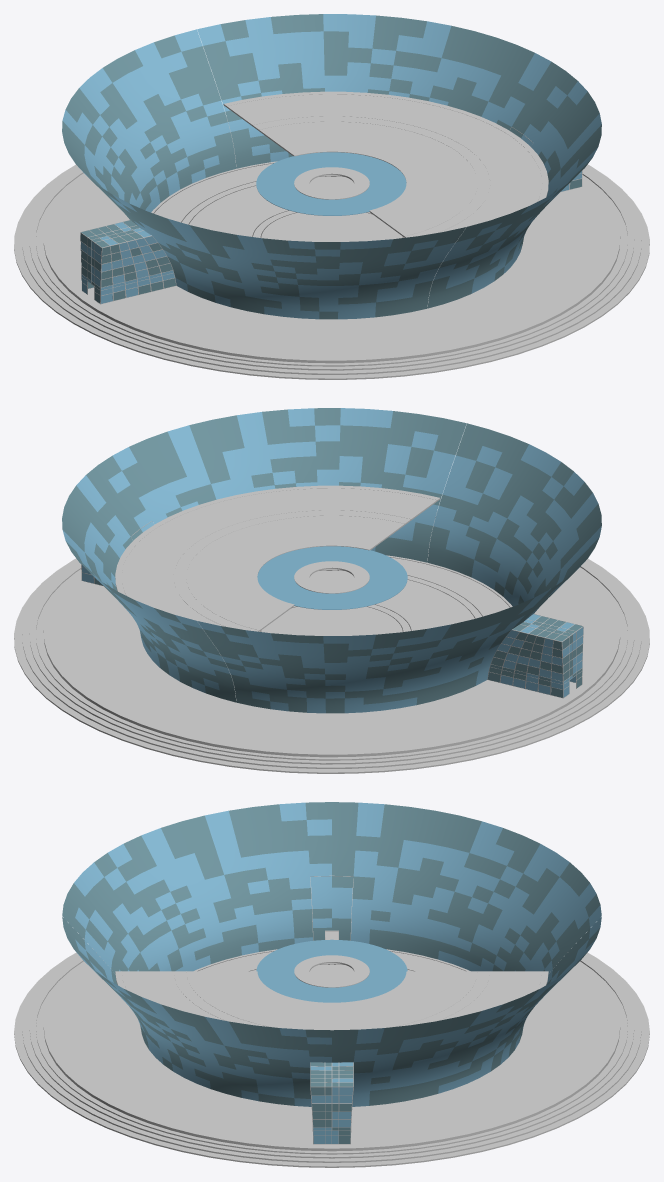
File: building.fbx
The picture shows the model from 3 angles, top to bottom: view 1: azimuth 30°, elevation 25°; view 2: azimuth 150°, elevation 25°; view 3: azimuth 270°, elevation 25°; orthographic projection.
Parts seen in each view (by area): view 1: wall_glass, stairs, floor_2, entrance_glass, entrance_wire, border_2; view 2: wall_glass, stairs, floor_2, entrance_glass, entrance_wire, border_2; view 3: wall_glass, stairs, floor_2, entrance_glass, entrance_wire.
Boxes of the visible parts, <box> form: wall_glass: <box>62,14,601,319</box>; stairs: <box>14,117,649,379</box>; floor_2: <box>223,91,548,262</box>; entrance_glass: <box>80,171,581,303</box>; entrance_wire: <box>80,127,582,304</box>; border_2: <box>228,94,542,235</box>; wall_glass: <box>62,408,601,713</box>; stairs: <box>14,511,649,773</box>; floor_2: <box>115,485,440,656</box>; entrance_glass: <box>82,565,583,697</box>; entrance_wire: <box>81,521,583,698</box>; border_2: <box>121,488,435,630</box>; wall_glass: <box>62,802,601,1106</box>; stairs: <box>14,931,649,1167</box>; floor_2: <box>115,939,548,1030</box>; entrance_glass: <box>310,1062,353,1143</box>; entrance_wire: <box>310,875,353,1144</box>.
Bounding box in the file's own units: 83.62 × 17.04 × 83.62.
